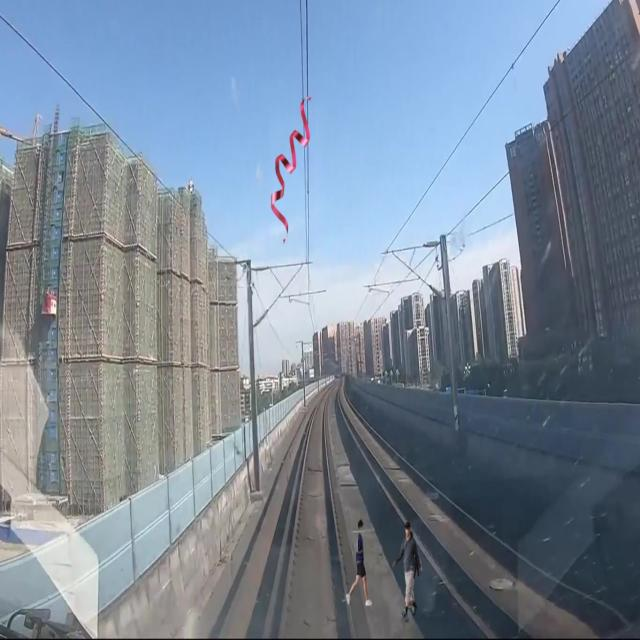floating object: (267, 91, 311, 240)
